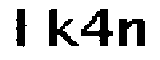4: (79, 6, 114, 50)
k: (45, 6, 80, 49)
l: (9, 5, 30, 52)
n: (114, 14, 148, 50)
